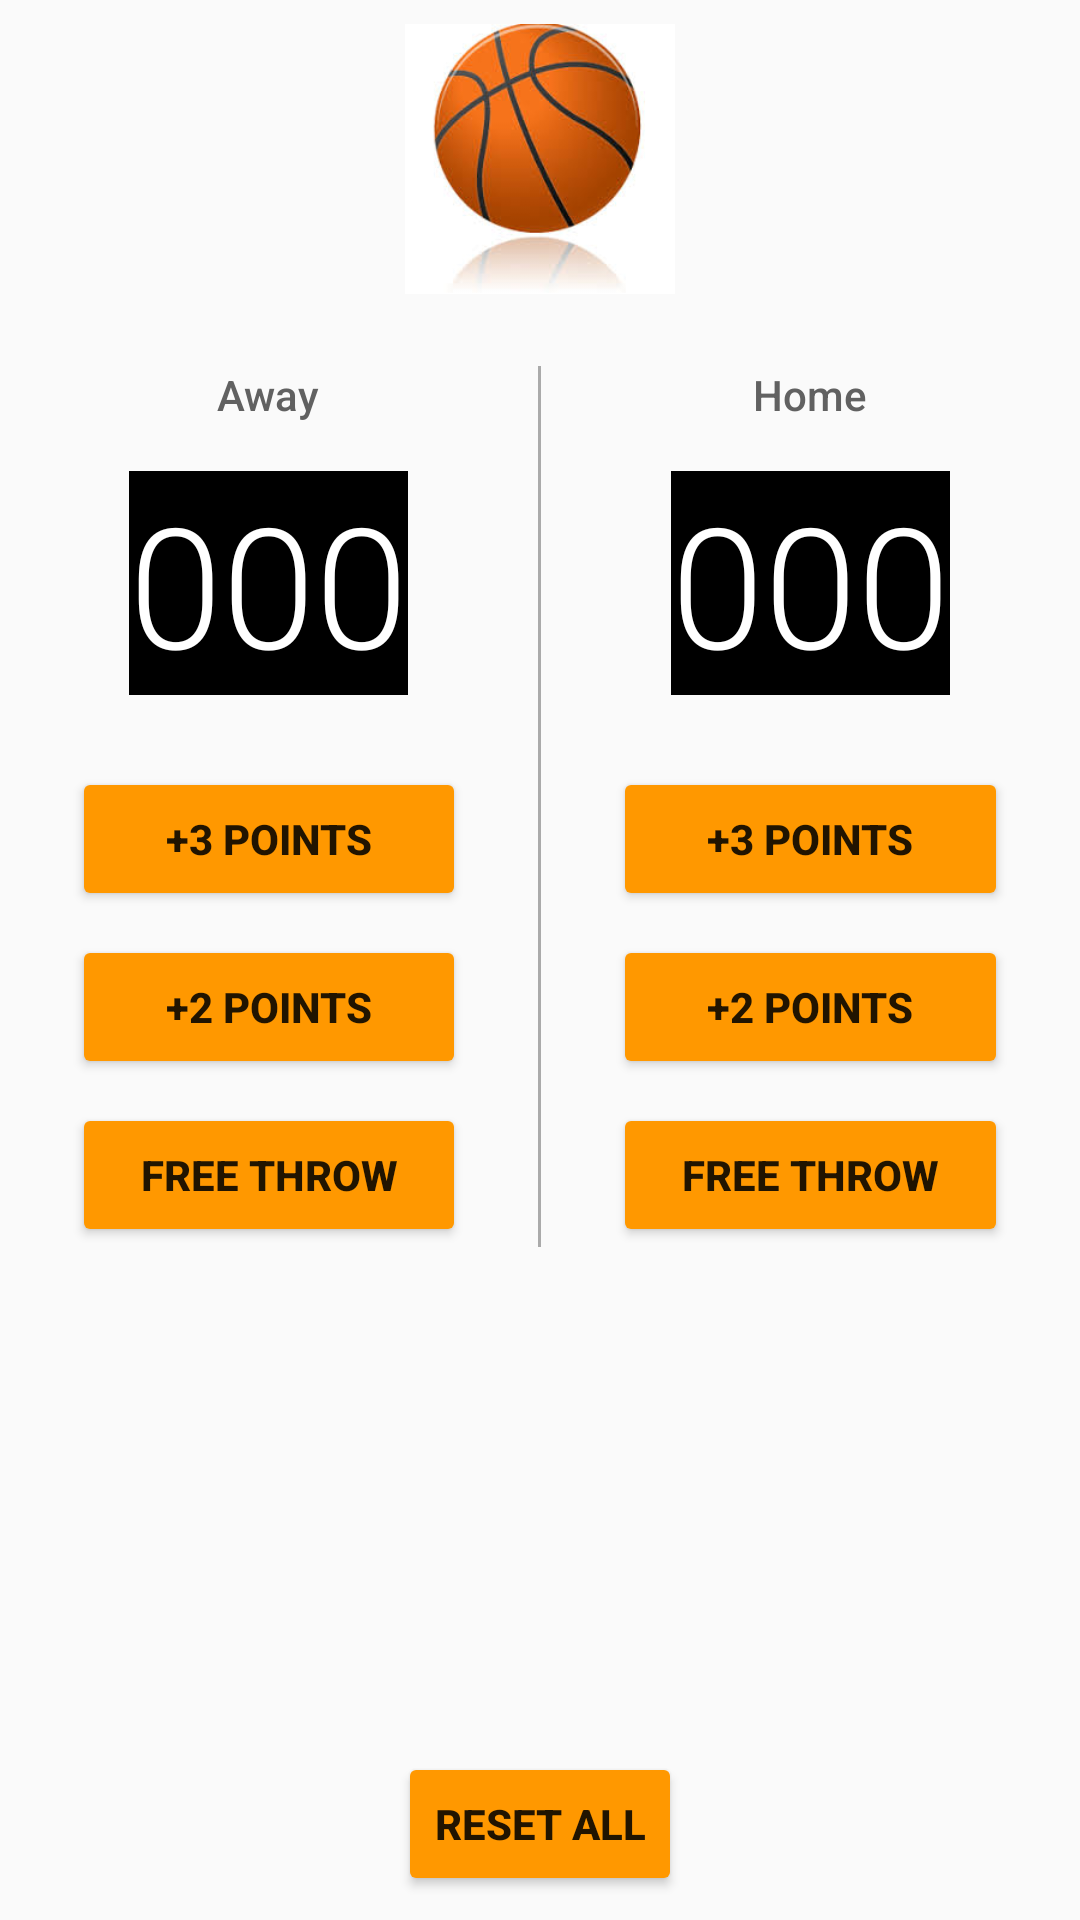

Screen size 1080w x 1920h. Icon name, then its center in pixels as point (x, y):
basketball: point (537, 151)
